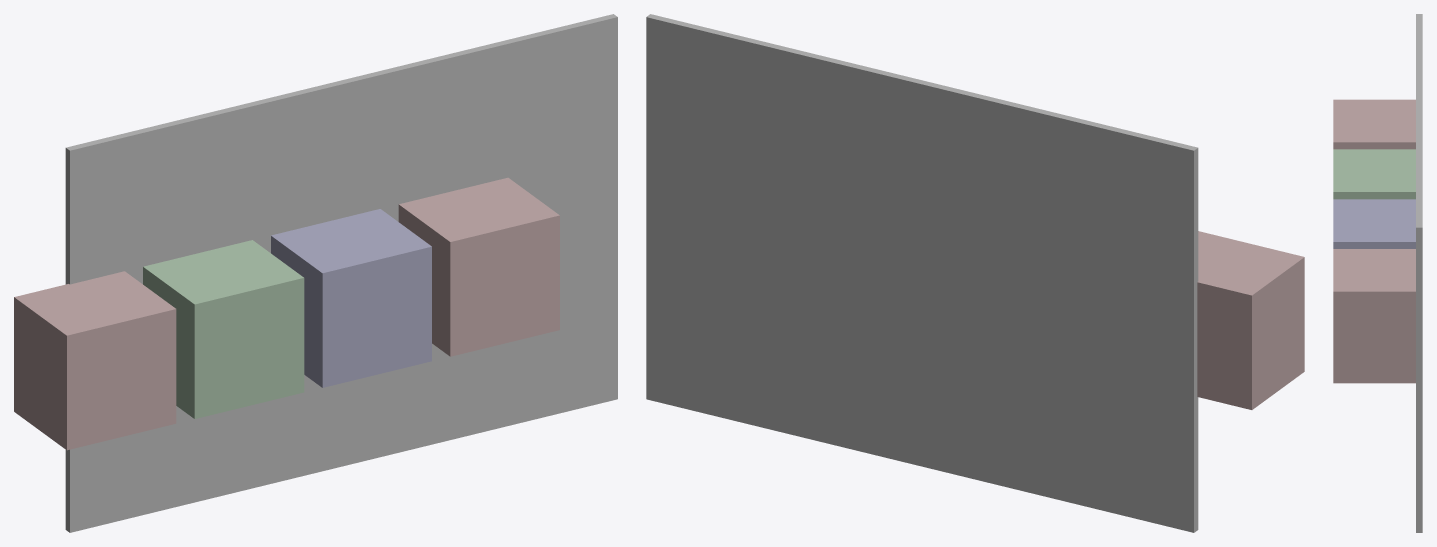
The model's file is house_20251101_061325.glb.
3 views of the same model, side by side, from view 1: azimuth 30°, elevation 25°; view 2: azimuth 150°, elevation 25°; view 3: azimuth 270°, elevation 25° (orthographic). The views are drawn at different scales.
Parts seen in each view (by area): view 1: floor, room_1, room_2, room_4, room_3; view 2: floor, room_1; view 3: room_4, room_1, room_2, room_3, floor.
Boxes of the visible parts, <box> form: floor: <box>65,14,617,532</box>; room_1: <box>14,271,176,450</box>; room_2: <box>143,240,304,418</box>; room_4: <box>398,177,559,356</box>; room_3: <box>271,209,431,387</box>; floor: <box>646,14,1198,532</box>; room_1: <box>1197,231,1304,409</box>; room_4: <box>1333,249,1415,383</box>; room_1: <box>1333,99,1415,149</box>; room_2: <box>1333,149,1415,199</box>; room_3: <box>1333,199,1415,248</box>; floor: <box>1416,14,1422,532</box>.
Size of the model in its own units: 16.5 by 10 by 2.65.
